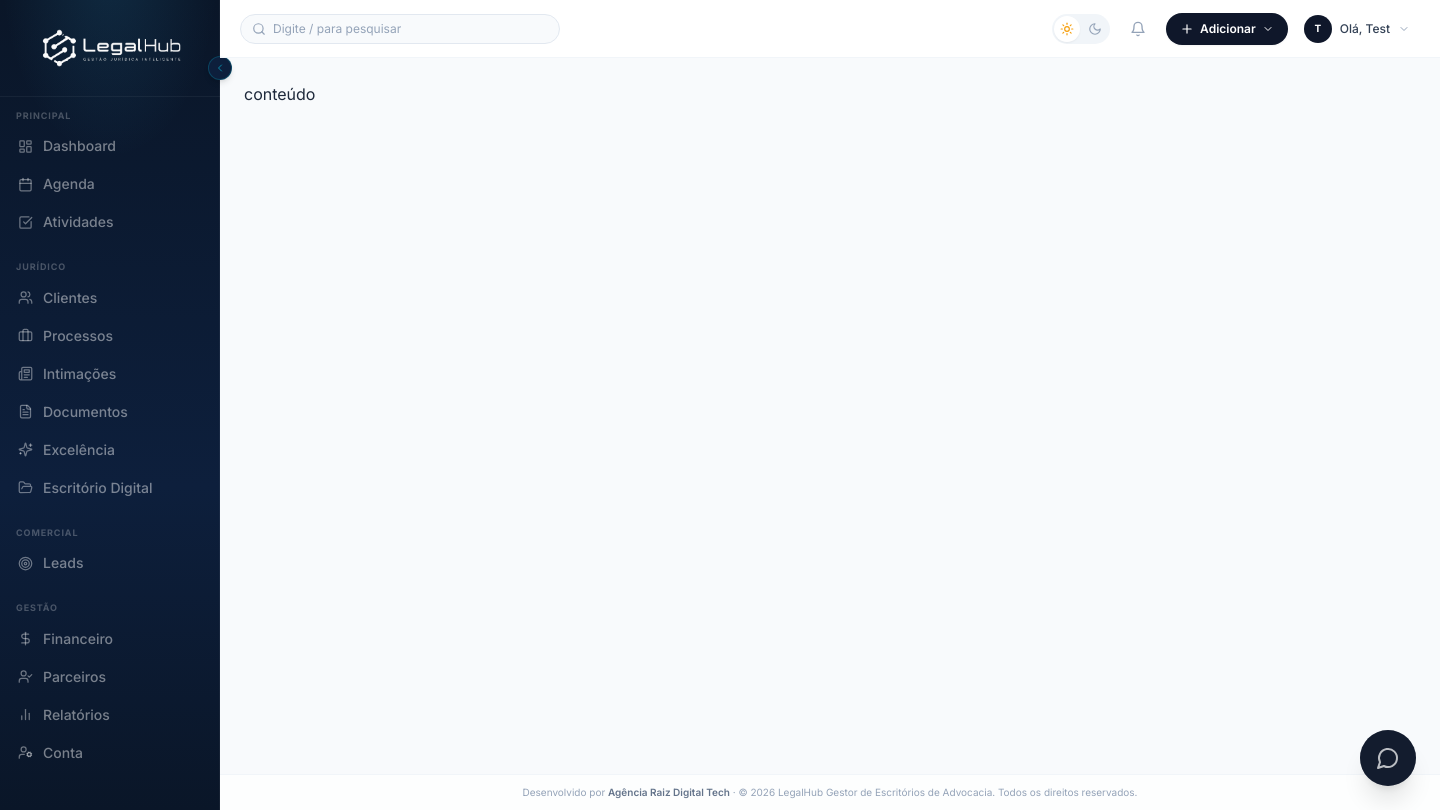
it: Layout — busca sem resultados › exibe mensagem "Nenhum resultado" quando não há dados
Type "xyzzy" into the field with placeholder "Digite / para pesquisar" at x=400, y=28, box 240,14 -> 560,44
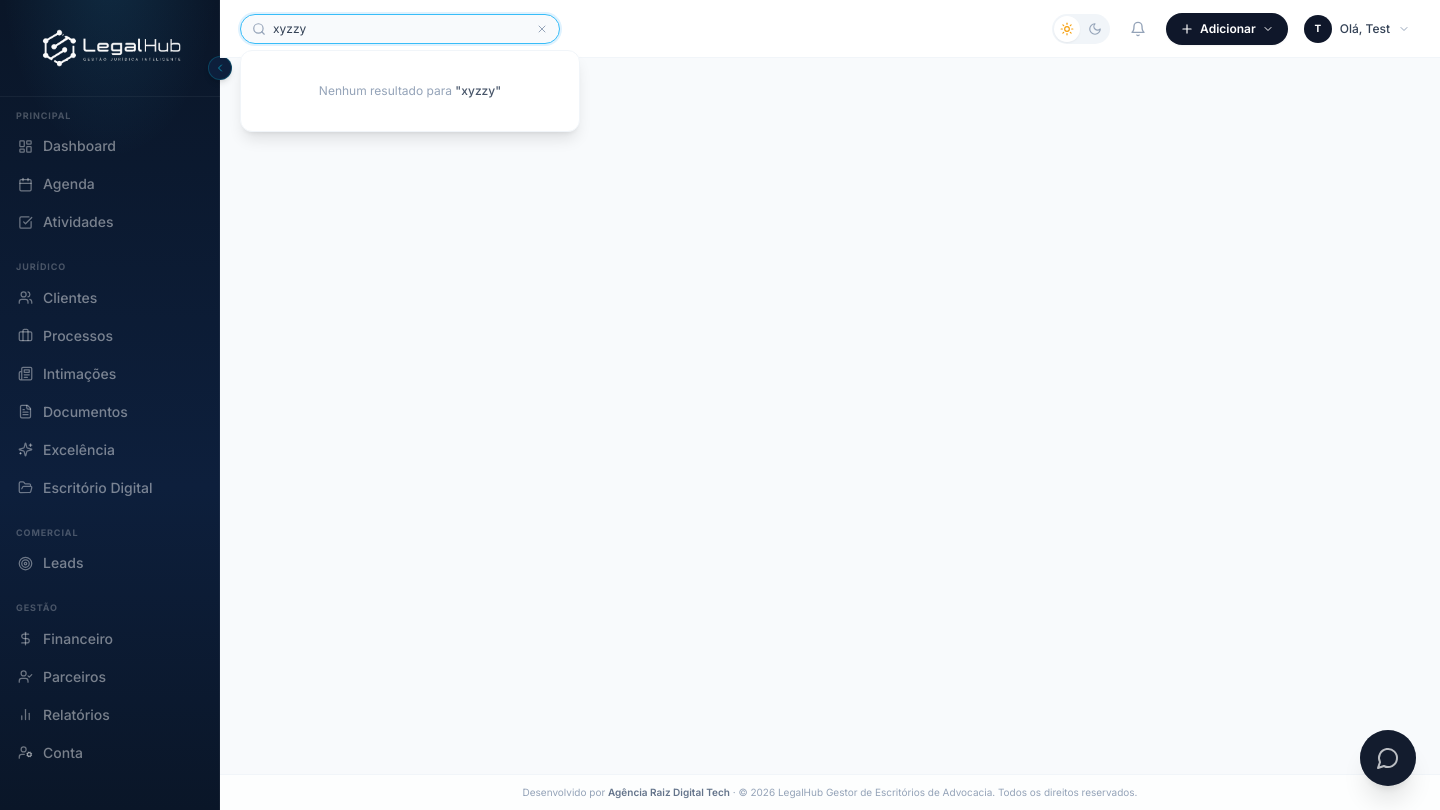
Check: the text "Nenhum resultado para \"xyzzy\"" is shown, box 319,82 -> 501,98
